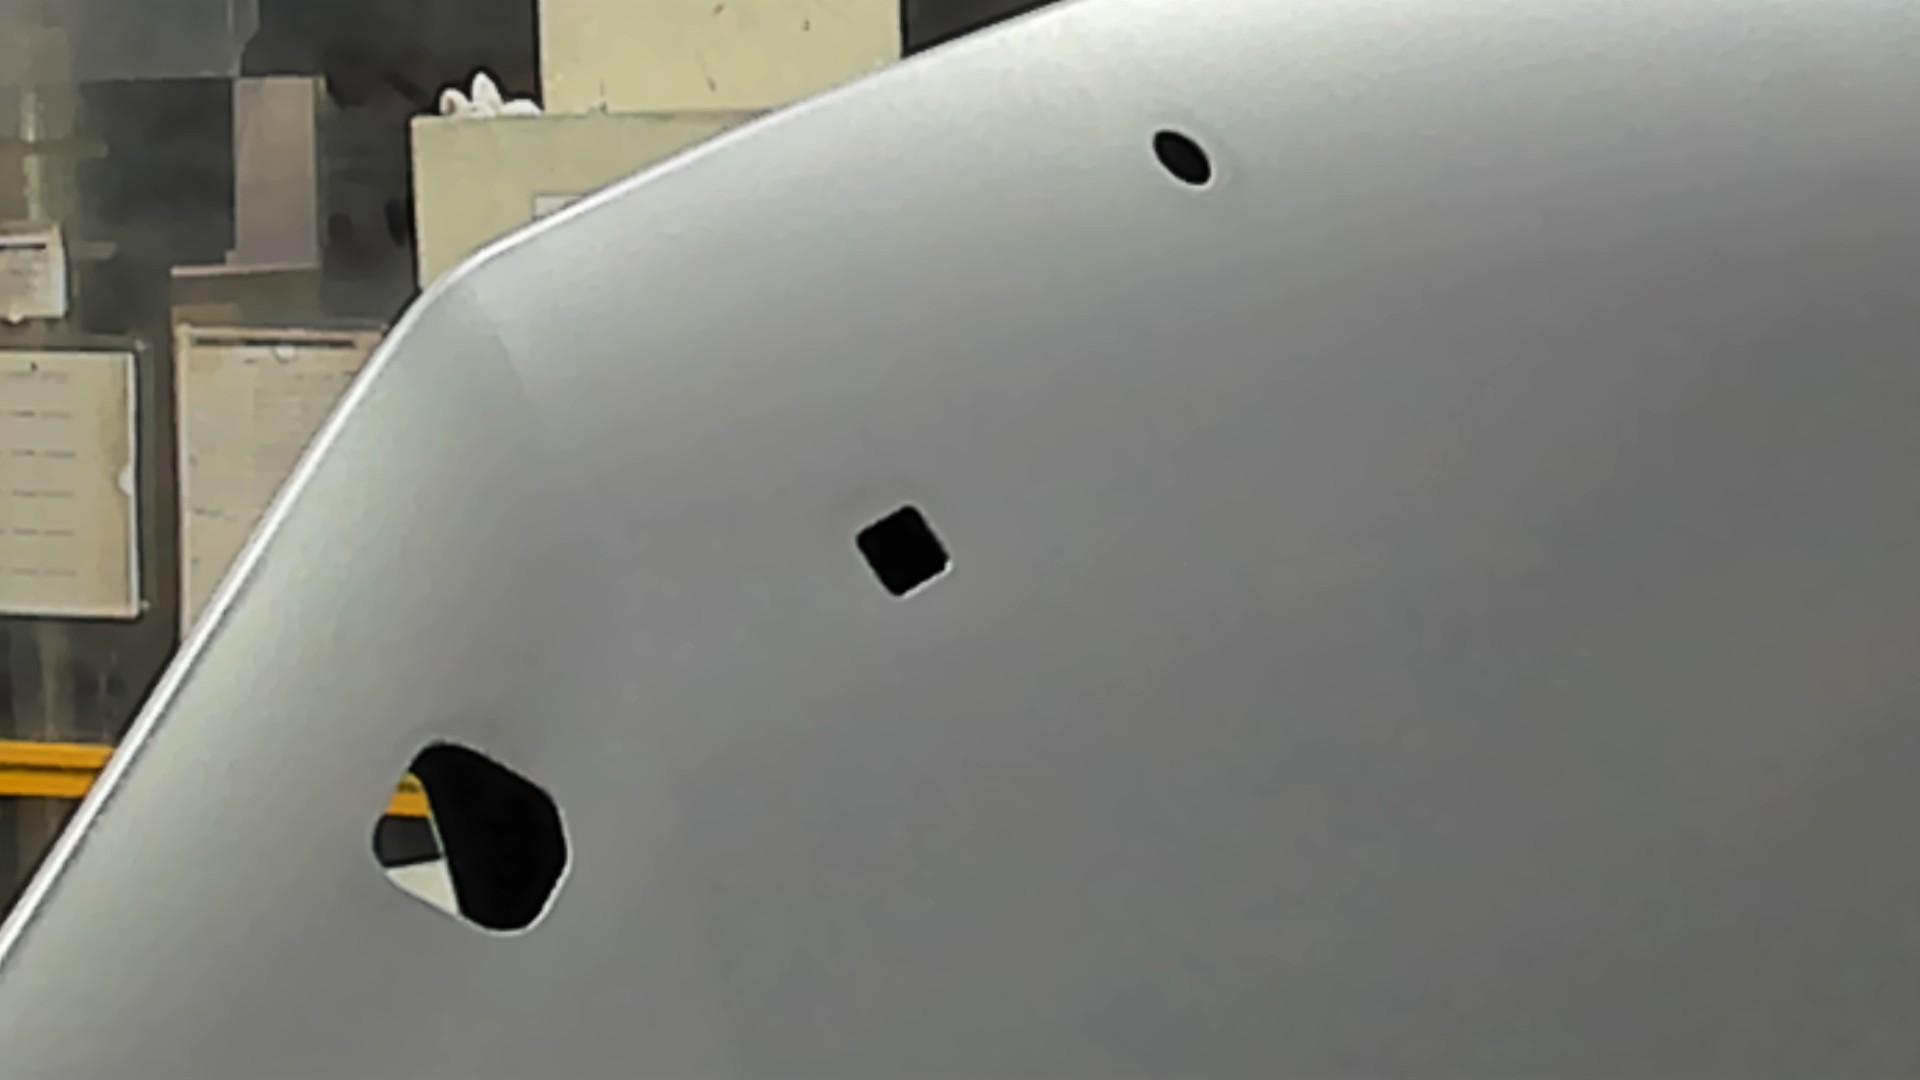capo: (964, 198, 1920, 1080)
chico: (1149, 127, 1215, 191)
grande: (365, 732, 575, 945)
mediano: (847, 500, 960, 608)
